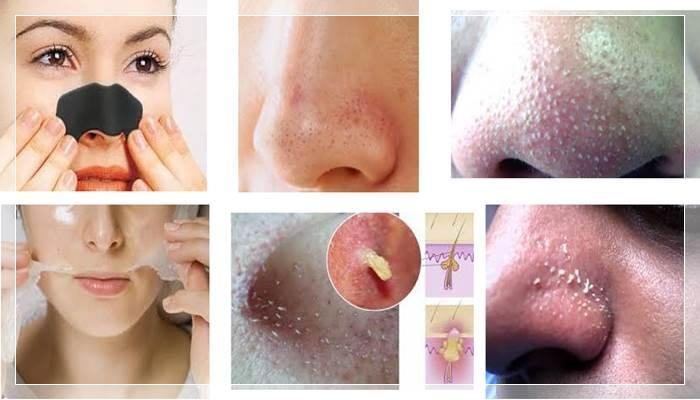Acne: (455, 30, 678, 181), (230, 213, 398, 383), (503, 218, 639, 337), (260, 95, 402, 171)
